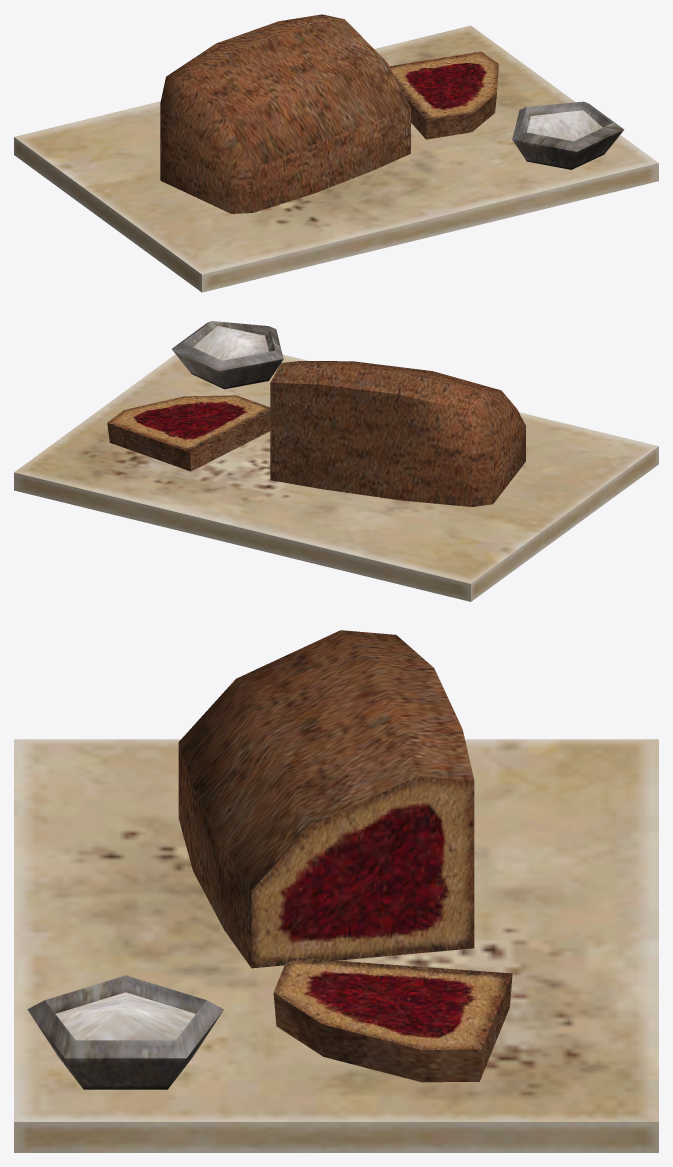
The model's file is edb_dessert_parwan_nutricake_l0.fbx.
The picture shows the model from 3 angles, top to bottom: view 1: azimuth 30°, elevation 25°; view 2: azimuth 150°, elevation 25°; view 3: azimuth 270°, elevation 25°; orthographic projection. The views are drawn at different scales.
Parts seen in each view (by area): view 1: mesh_node; view 2: mesh_node; view 3: mesh_node.
Part boxes in pixels (bbox=[...]): mesh_node: bbox=[14, 14, 658, 292]; mesh_node: bbox=[14, 321, 658, 601]; mesh_node: bbox=[14, 630, 658, 1152].
Bounding box in the file's own units: 0.7686 × 0.2128 × 0.5478.
